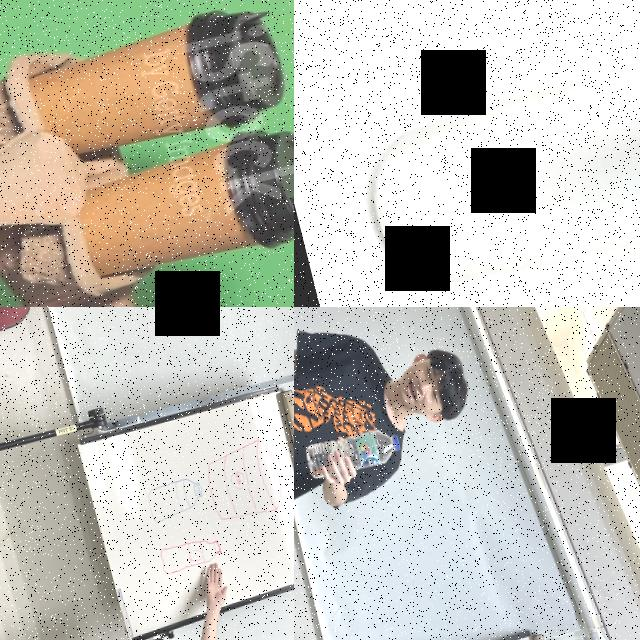bottle: (301, 422, 404, 485)
can: (336, 0, 640, 307)
cup: (22, 0, 293, 172), (64, 116, 294, 294)
